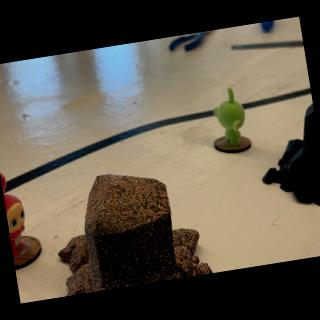teletubby: (0, 172, 26, 257), (213, 88, 245, 145)
